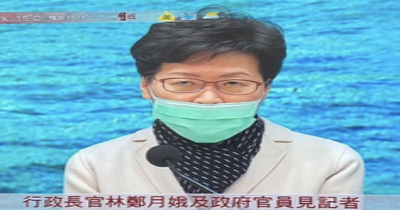mask_weared_incorrect: (150, 69, 266, 144)
